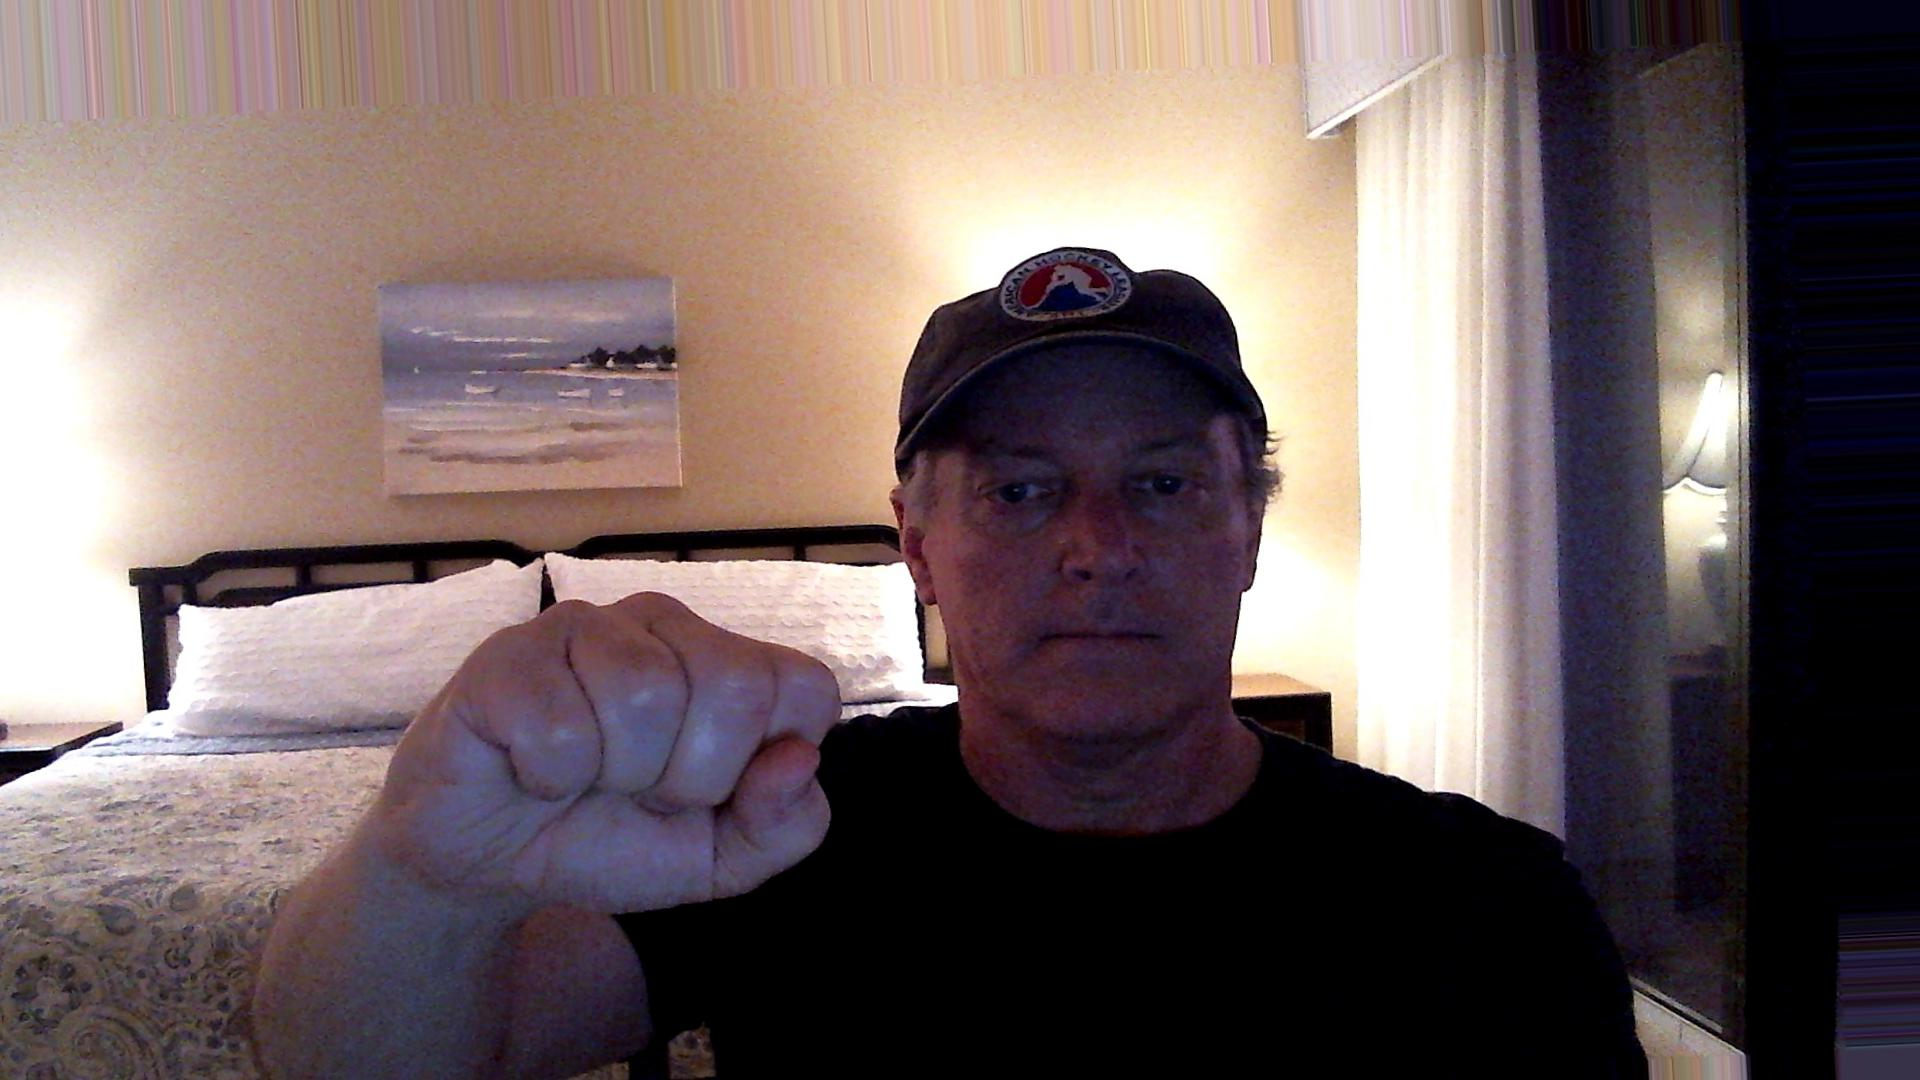Yes: (375, 572, 853, 918)
